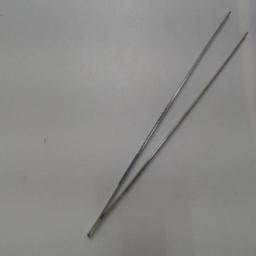DeBakey Dissector: (78, 4, 254, 252)
